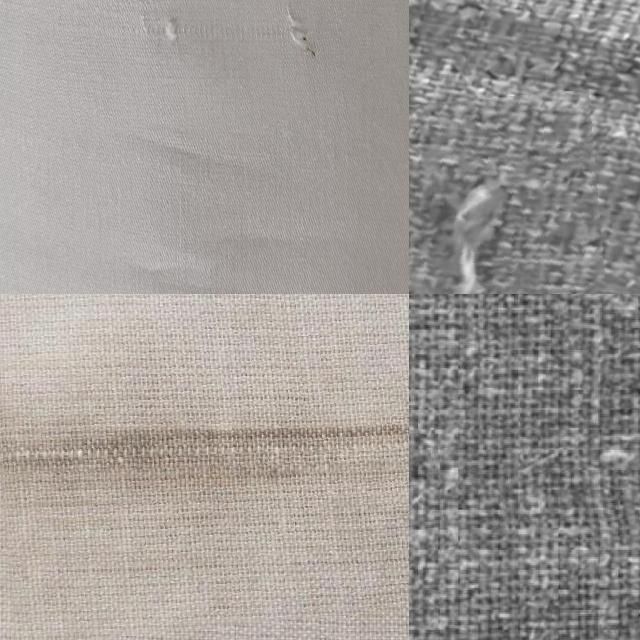Thread_other: (0, 294, 409, 630), (35, 0, 357, 131), (409, 95, 613, 294)
